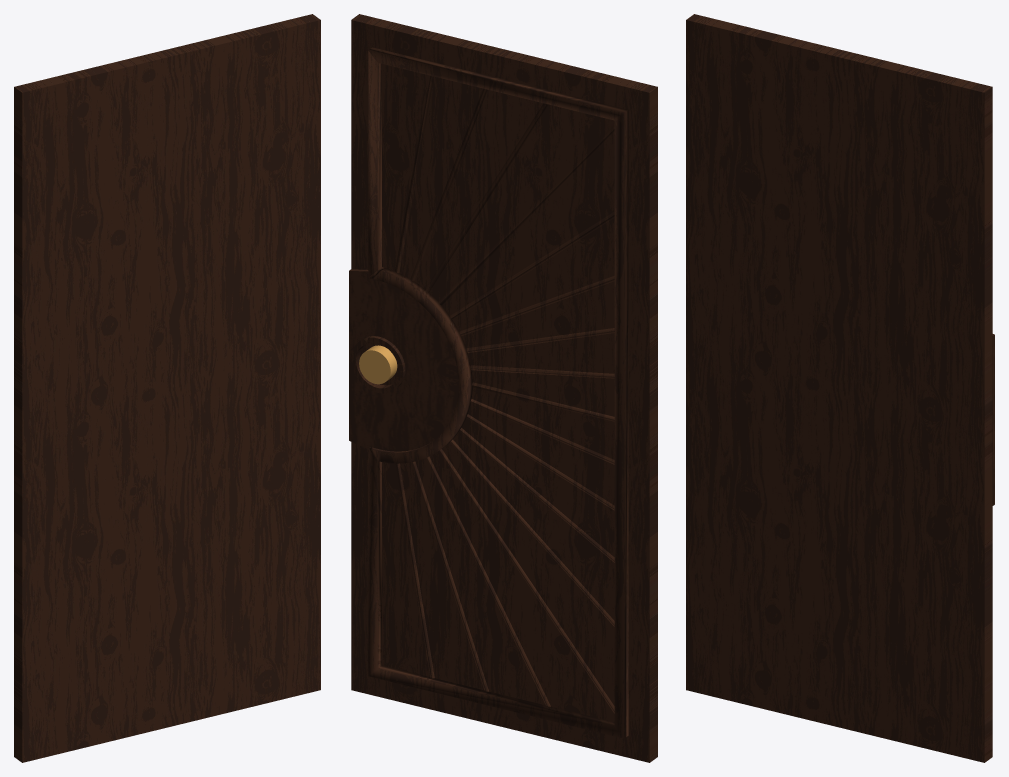
The model's file is tokendoor.gltf.
The picture shows the model from 3 angles, left to right: view 1: azimuth 30°, elevation 25°; view 2: azimuth 150°, elevation 25°; view 3: azimuth 330°, elevation 25°; orthographic projection.
Visible parts, largest first — view 1: door; view 2: door; view 3: door.
Part boxes in pixels (x1,y1,x2,y2): door: (14, 14, 320, 762); door: (349, 14, 657, 762); door: (686, 14, 994, 762).
Size of the model in its own units: 1.07 by 2.3 by 0.092.
